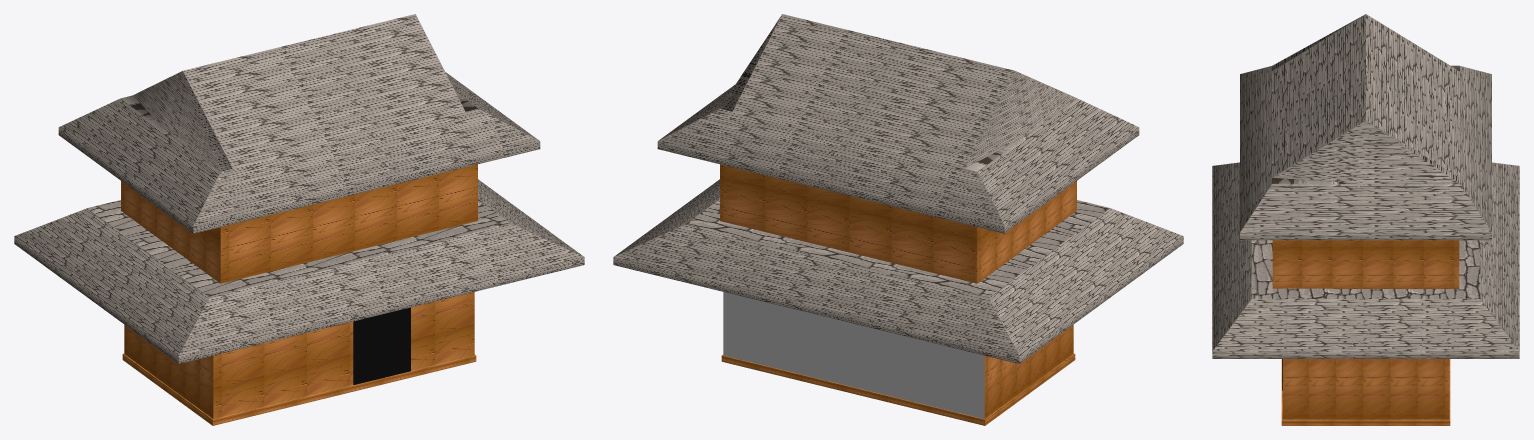
File: House1.obj
3 views of the same model, side by side, from view 1: azimuth 30°, elevation 25°; view 2: azimuth 150°, elevation 25°; view 3: azimuth 270°, elevation 25° (orthographic). The views are drawn at different scales.
Parts seen in each view (by area): view 1: Roof2, Roof1, Walls2, Walls1, Door, Floor1; view 2: Roof2, Roof1, Walls1, Walls2, Floor1; view 3: Roof2, Roof1, Walls1, Walls2, Floor1.
Part boxes in pixels (bbox=[...]): Roof2: bbox=[58, 14, 540, 233]; Roof1: bbox=[14, 179, 584, 363]; Walls2: bbox=[121, 164, 477, 283]; Walls1: bbox=[124, 292, 474, 418]; Door: bbox=[353, 307, 410, 384]; Floor1: bbox=[122, 353, 476, 425]; Roof2: bbox=[657, 14, 1139, 233]; Roof1: bbox=[613, 179, 1183, 363]; Walls1: bbox=[723, 292, 1073, 418]; Walls2: bbox=[720, 164, 1076, 283]; Floor1: bbox=[721, 353, 1075, 425]; Roof2: bbox=[1240, 14, 1491, 240]; Roof1: bbox=[1212, 162, 1519, 358]; Walls1: bbox=[1282, 359, 1449, 419]; Walls2: bbox=[1272, 240, 1459, 288]; Floor1: bbox=[1281, 359, 1450, 425].
Size of the model in its own units: 41.61 by 31.2 by 29.11.
